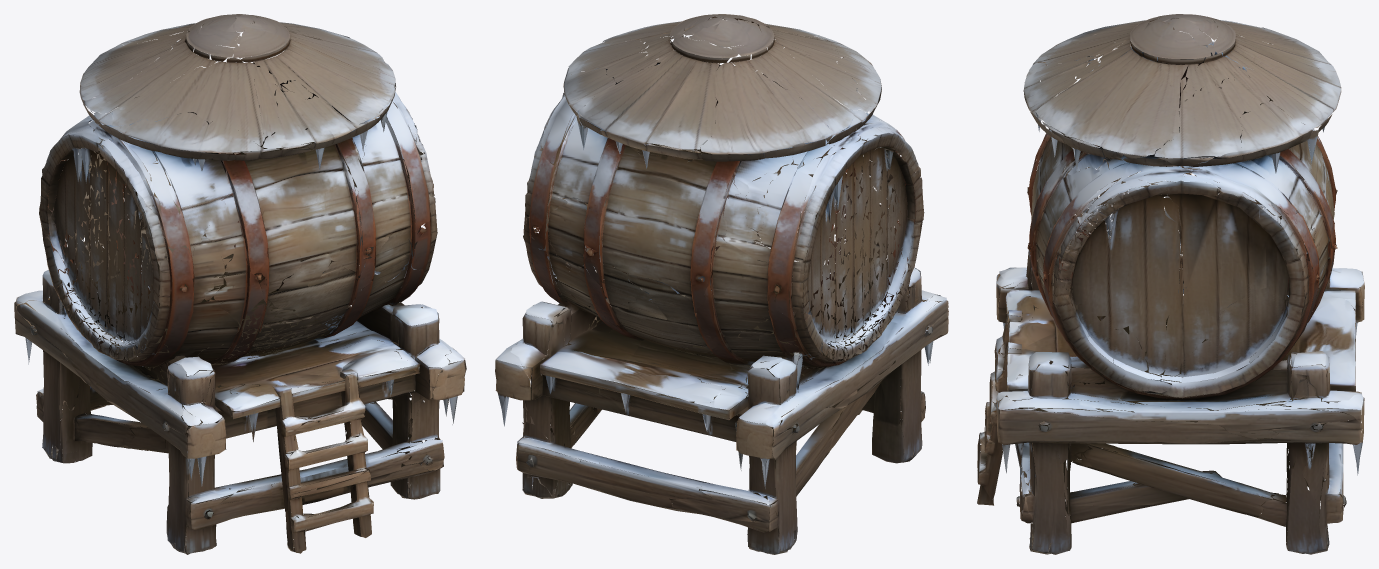
Rendered from WaterTank.fbx.
3 renders of one model, left to right at view 1: azimuth 30°, elevation 25°; view 2: azimuth 150°, elevation 25°; view 3: azimuth 270°, elevation 25°, orthographic. The views are drawn at different scales.
Parts seen in each view (by area): view 1: WaterTank; view 2: WaterTank; view 3: WaterTank.
Boxes of the visible parts, x1=… form: WaterTank: x1=14, y1=14, x2=466, y2=554; WaterTank: x1=495, y1=14, x2=948, y2=554; WaterTank: x1=977, y1=14, x2=1364, y2=554.
Size of the model in its own units: 170 by 260 by 194.
Materials: 1 (1 with a texture image).
